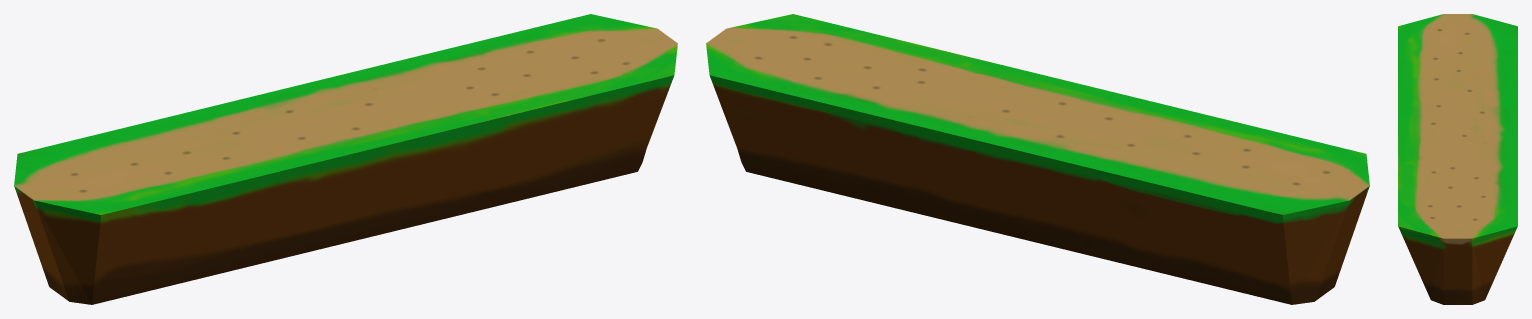
The model's file is floor0.dae.
3 renders of one model, left to right at view 1: azimuth 30°, elevation 25°; view 2: azimuth 150°, elevation 25°; view 3: azimuth 270°, elevation 25°, orthographic. The views are drawn at different scales.
Parts seen in each view (by area): view 1: floor0; view 2: floor0; view 3: floor0.
Part boxes in pixels (x1,y1,x2,y2): floor0: (14,14,677,304); floor0: (706,14,1369,304); floor0: (1398,14,1517,304).
Size of the model in its own units: 12.25 by 2.76 by 2.
Materials: 1 (1 with a texture image).
